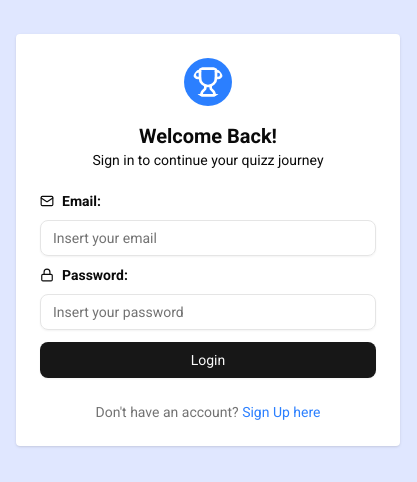
Scenario: Login page › shows email error when wrong email
This screenshot has width=417, height=482.
Expected: the form with test id "login-form" is shown, [40, 194, 376, 422]
In the password field labelled "Password:": coordinates (208, 312) [40, 294, 376, 330], type "12345678"
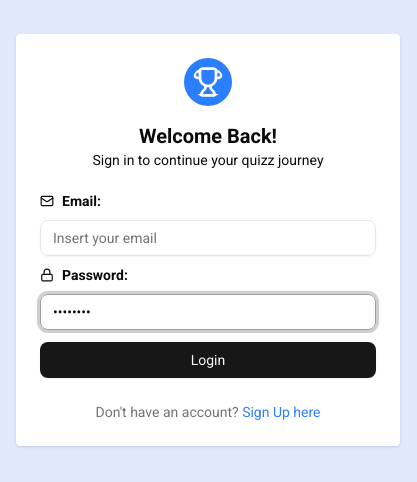
In the field labelled "Email:": coordinates (208, 238) [40, 220, 376, 256], type "user.com"
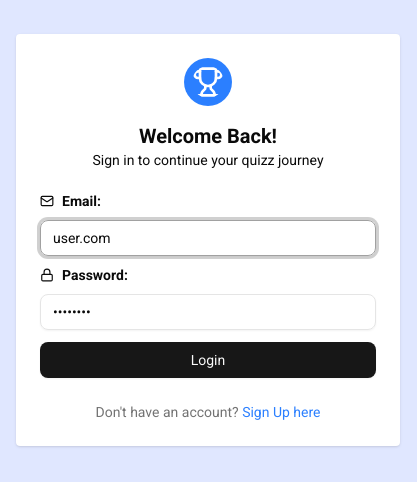
Submit the form with test id "login-form", box [40, 194, 376, 422]
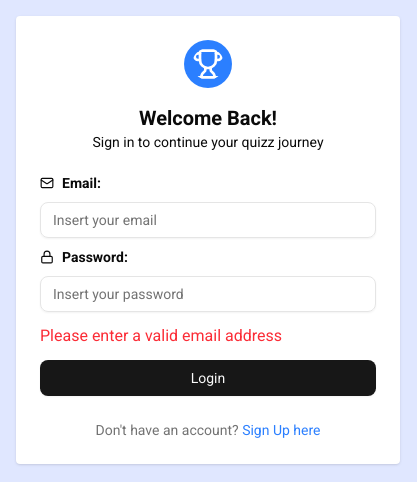
Expected: the number of list items is 1, [40, 326, 282, 345]
